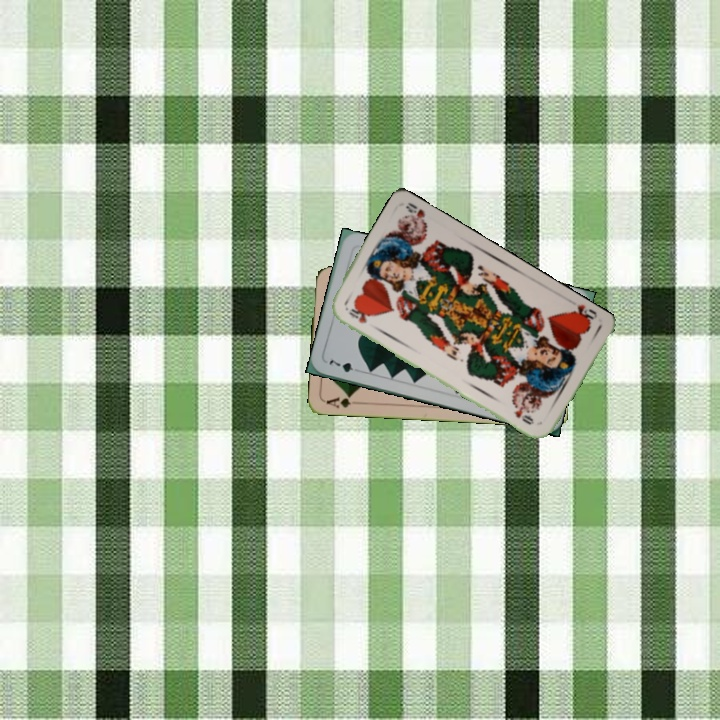G7: (325, 355, 364, 375)
GA: (322, 392, 363, 410)
HO: (564, 300, 600, 328), (344, 304, 372, 326)
